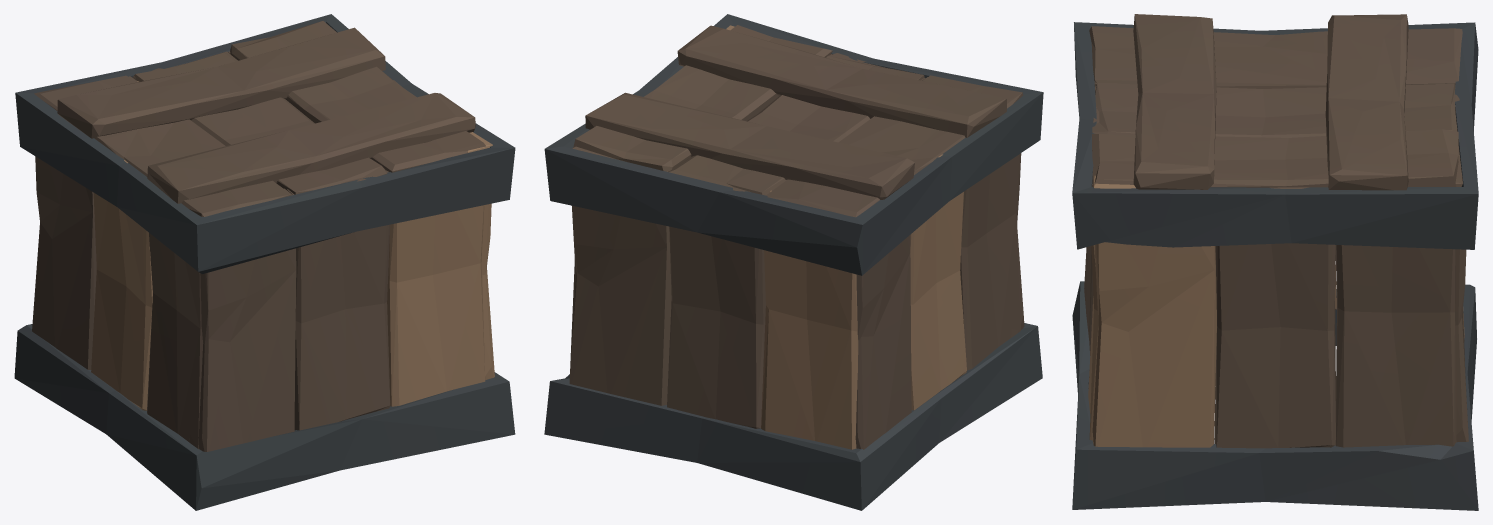
Rendered from Crate_Wood_03.FBX.
3 views of the same model, side by side, from view 1: azimuth 30°, elevation 25°; view 2: azimuth 150°, elevation 25°; view 3: azimuth 270°, elevation 25° (orthographic). The views are drawn at different scales.
Visible parts, largest first — view 1: Crate_Wood_03; view 2: Crate_Wood_03; view 3: Crate_Wood_03.
Part boxes in pixels (bbox=[...]): Crate_Wood_03: bbox=[14, 14, 515, 510]; Crate_Wood_03: bbox=[544, 14, 1043, 510]; Crate_Wood_03: bbox=[1072, 14, 1478, 510].
Size of the model in its own units: 0.701 by 0.637 by 0.7021.
